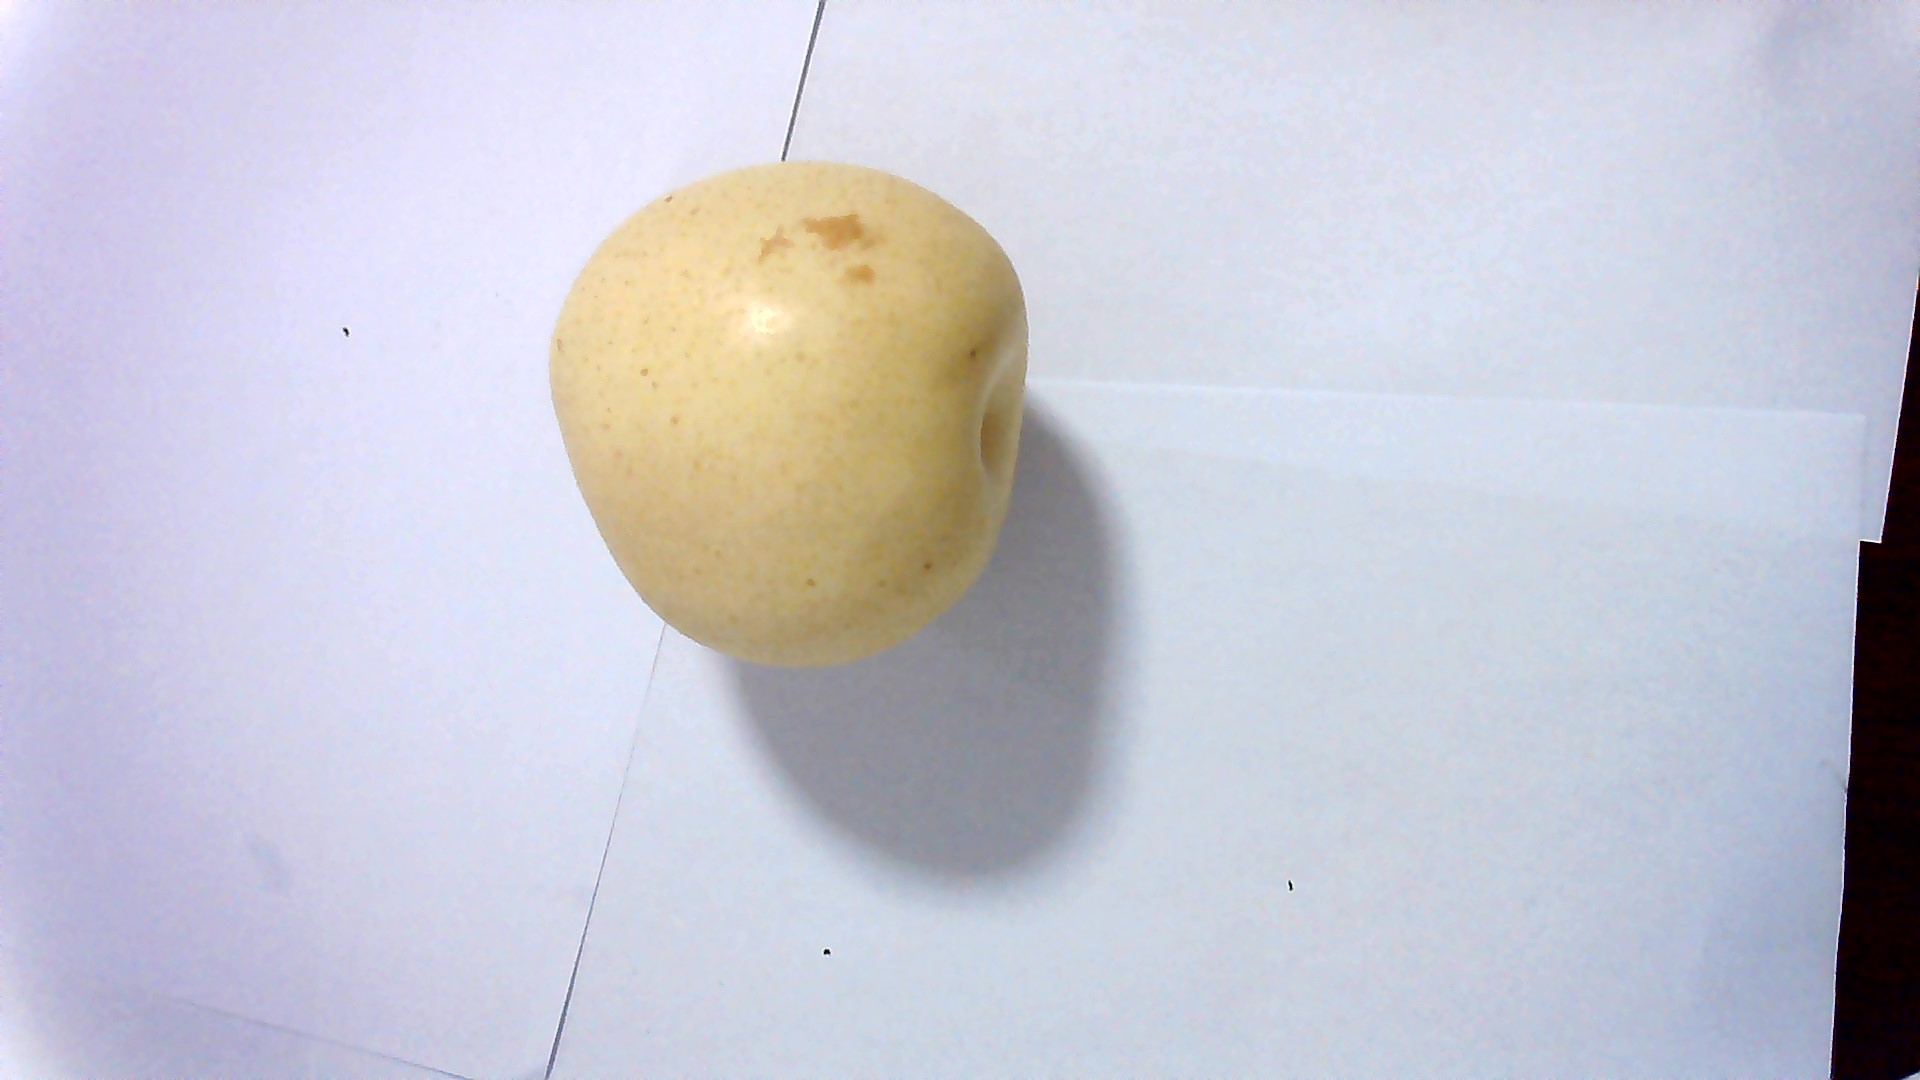pear: (556, 160, 1029, 645)
